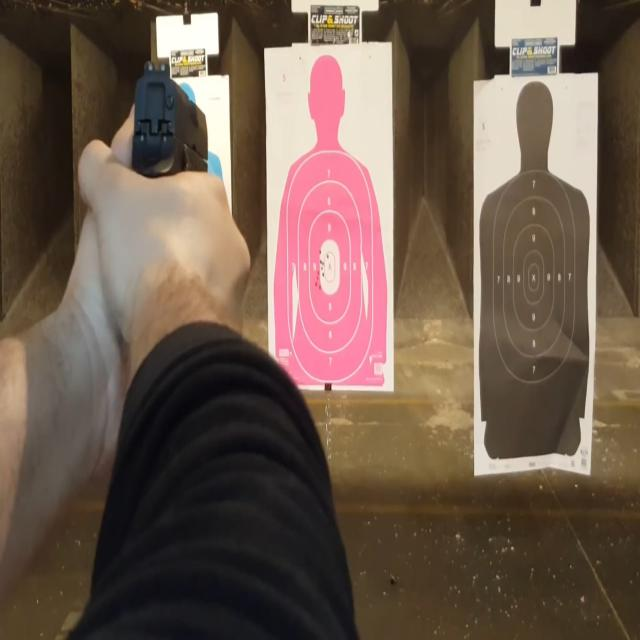handgun: (124, 64, 231, 250)
